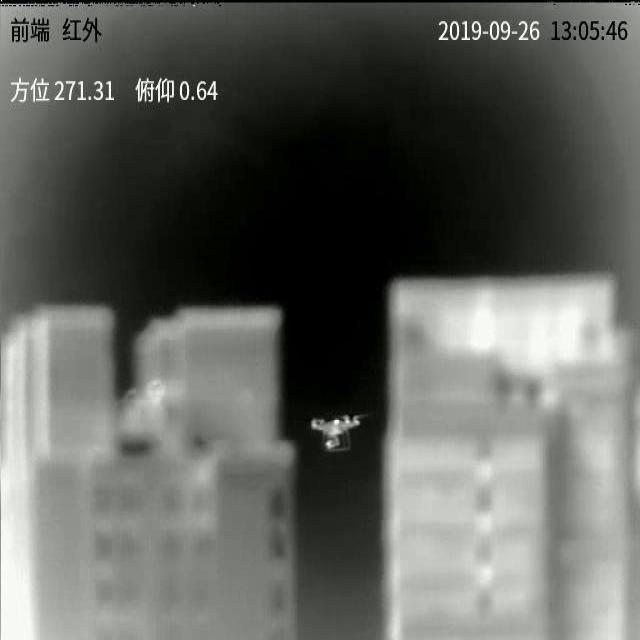drone: (311, 415, 366, 451)
